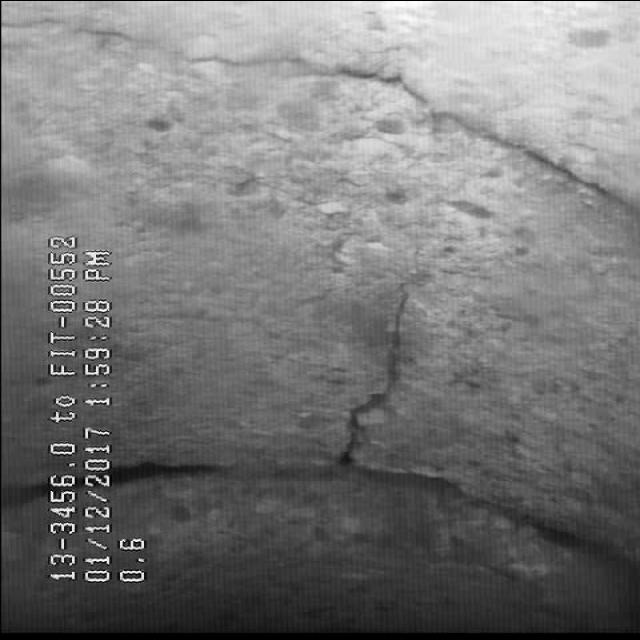Crack: (112, 28, 609, 160), (302, 283, 436, 464)
